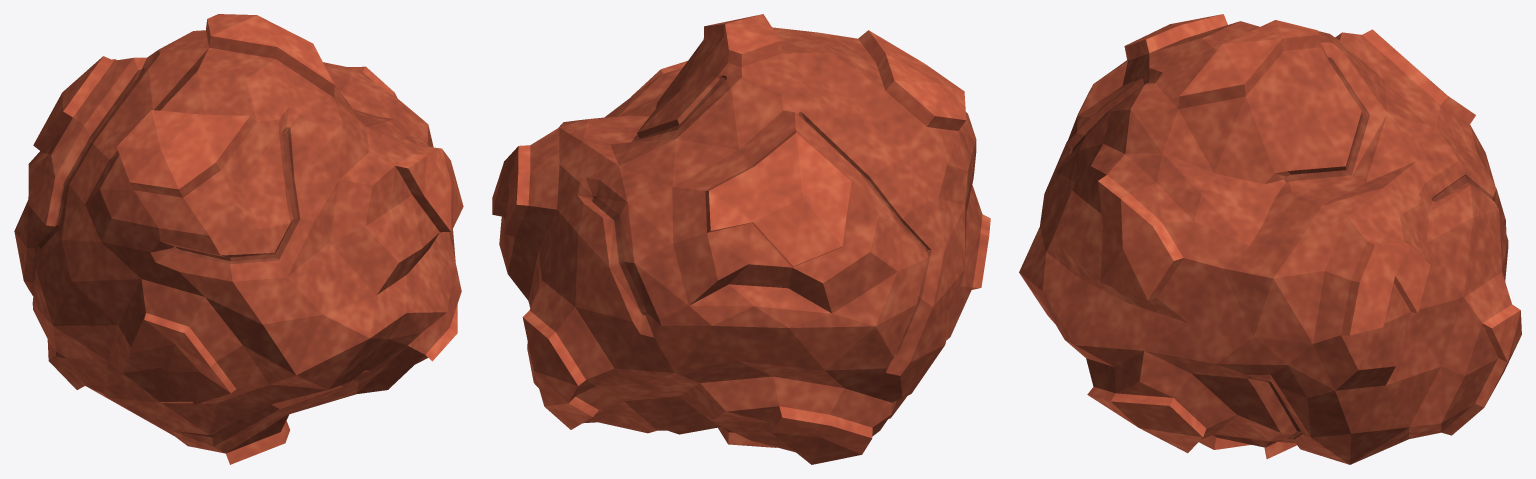
Rendered from Bauxite_Ore.fbx.
The picture shows the model from 3 angles, left to right: view 1: azimuth 30°, elevation 25°; view 2: azimuth 150°, elevation 25°; view 3: azimuth 270°, elevation 25°; orthographic projection. The views are drawn at different scales.
Visible parts, largest first — view 1: SM_Bauxite_Ore; view 2: SM_Bauxite_Ore; view 3: SM_Bauxite_Ore.
Part boxes in pixels (x1=…): SM_Bauxite_Ore: x1=14, y1=14, x2=463, y2=464; SM_Bauxite_Ore: x1=492, y1=14, x2=990, y2=464; SM_Bauxite_Ore: x1=1019, y1=14, x2=1521, y2=464.
Size of the model in its own units: 48.93 by 47.52 by 50.65.
3 materials, 3 textured.
